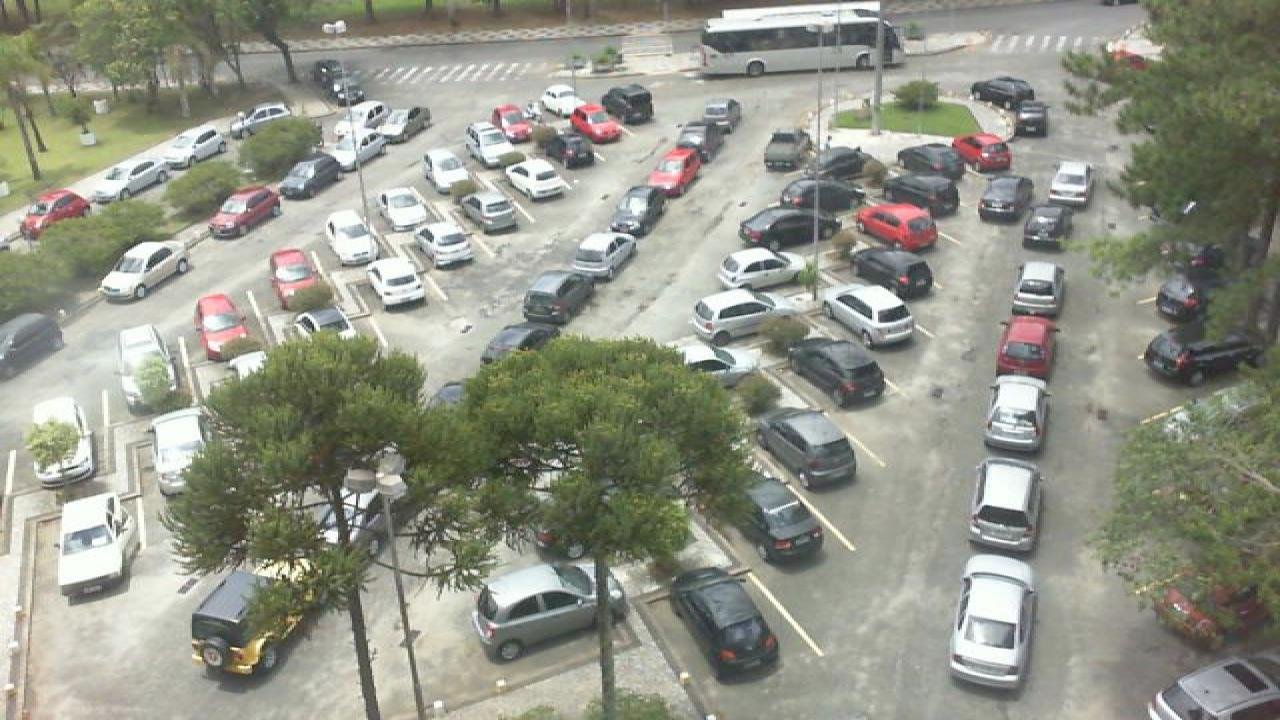Car: (470, 560, 612, 665), (190, 566, 306, 679), (946, 552, 1040, 690), (674, 567, 784, 681), (1144, 652, 1280, 720), (54, 493, 142, 595), (758, 408, 858, 493), (966, 456, 1044, 554), (788, 338, 890, 409), (744, 480, 832, 562), (22, 395, 98, 489), (114, 324, 182, 417), (98, 238, 194, 302), (828, 283, 918, 350), (1144, 331, 1252, 386), (980, 372, 1048, 454), (692, 288, 788, 346), (148, 407, 206, 495), (192, 292, 260, 360), (848, 248, 936, 300), (716, 246, 810, 292), (672, 342, 760, 390), (0, 313, 64, 378), (206, 184, 282, 238), (522, 271, 596, 326), (740, 206, 832, 250), (18, 189, 96, 240), (266, 248, 328, 310), (996, 316, 1056, 380), (566, 231, 638, 284), (856, 204, 938, 250), (88, 158, 172, 202), (484, 323, 564, 367), (412, 219, 478, 269), (162, 132, 240, 174), (1010, 260, 1066, 318), (324, 209, 380, 267), (368, 256, 428, 310), (612, 185, 672, 238), (500, 158, 572, 202), (808, 146, 886, 186), (890, 176, 962, 219), (456, 187, 520, 235), (778, 180, 862, 216), (320, 122, 388, 166), (378, 180, 434, 232), (646, 145, 704, 195), (280, 156, 344, 200), (1154, 272, 1206, 324), (538, 125, 598, 169), (466, 122, 522, 168), (976, 176, 1030, 222), (368, 105, 430, 145), (424, 147, 474, 196), (568, 104, 628, 144), (896, 144, 962, 180), (954, 133, 1014, 172), (1020, 206, 1074, 248), (968, 76, 1036, 108), (762, 128, 812, 171), (600, 84, 654, 122), (1048, 161, 1094, 205), (236, 101, 298, 132), (676, 120, 728, 156), (492, 104, 538, 142), (536, 84, 582, 120), (336, 100, 382, 131), (1014, 100, 1052, 136), (324, 75, 366, 107), (702, 98, 742, 129), (310, 58, 346, 86)
